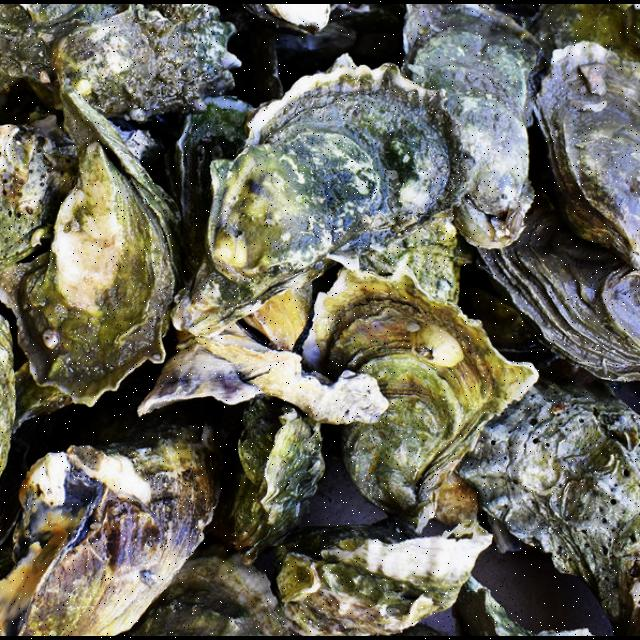Oyster-Closed: (175, 64, 474, 342), (306, 268, 540, 530), (0, 366, 223, 636), (0, 143, 177, 409), (458, 381, 640, 636), (401, 4, 543, 247), (478, 192, 640, 383), (255, 523, 492, 636), (63, 92, 185, 291), (536, 43, 640, 267), (52, 4, 246, 120), (177, 325, 389, 425), (209, 405, 324, 557), (164, 97, 258, 282), (122, 546, 289, 636), (359, 214, 475, 306), (140, 346, 262, 416), (452, 579, 596, 636), (245, 282, 314, 352), (237, 397, 280, 486), (242, 4, 332, 38), (604, 265, 640, 342), (0, 316, 16, 482), (275, 554, 318, 599)
